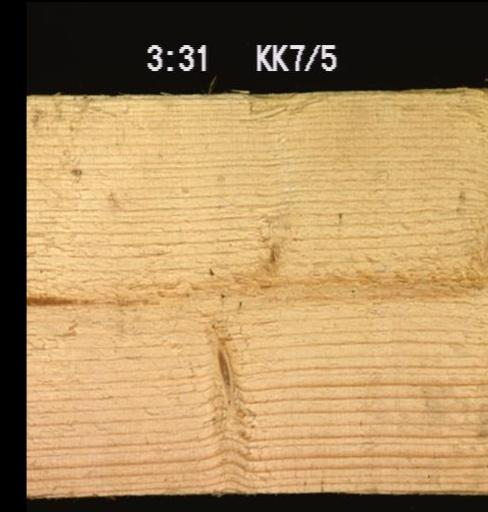small_knot: (260, 234, 292, 268)
